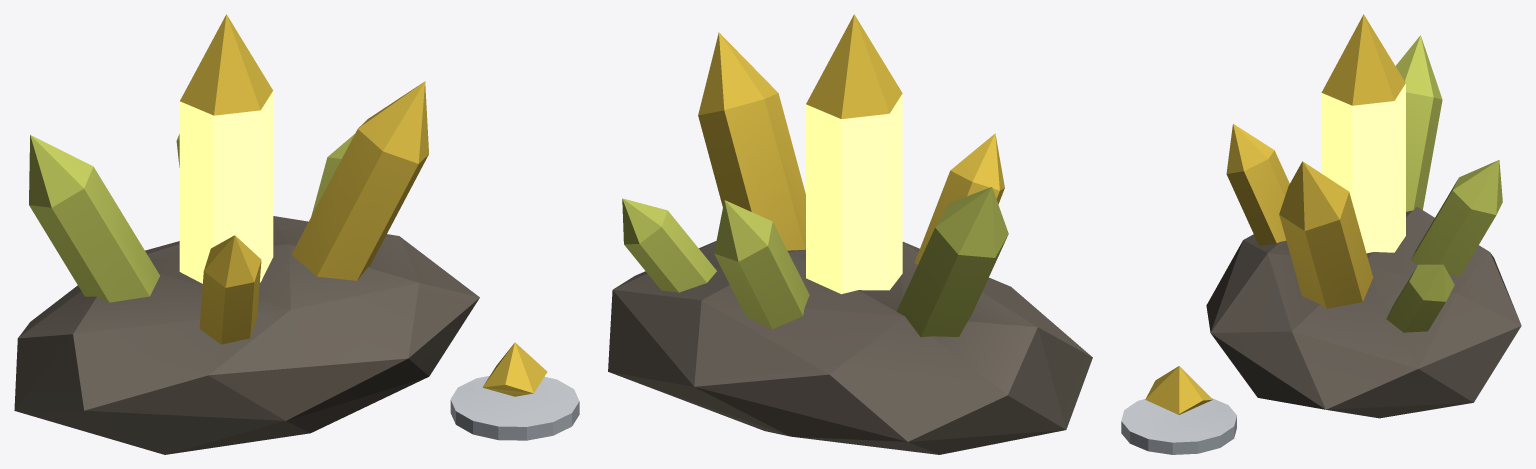
3 renders of one model, left to right at view 1: azimuth 30°, elevation 25°; view 2: azimuth 150°, elevation 25°; view 3: azimuth 270°, elevation 25°, orthographic. The views are drawn at different scales.
Visible parts, largest first — view 1: base; view 2: base; view 3: base.
Part boxes in pixels (x1=…): base: x1=14, y1=14, x2=579, y2=454; base: x1=608, y1=14, x2=1092, y2=454; base: x1=1121, y1=14, x2=1521, y2=454.
Bounding box in the file's own units: 0.4834 × 0.402 × 0.4123.
